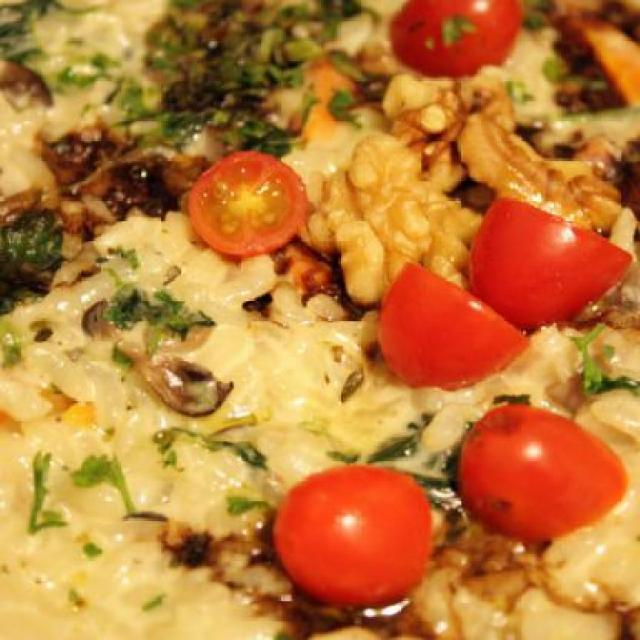Risotto: (14, 17, 628, 628)
